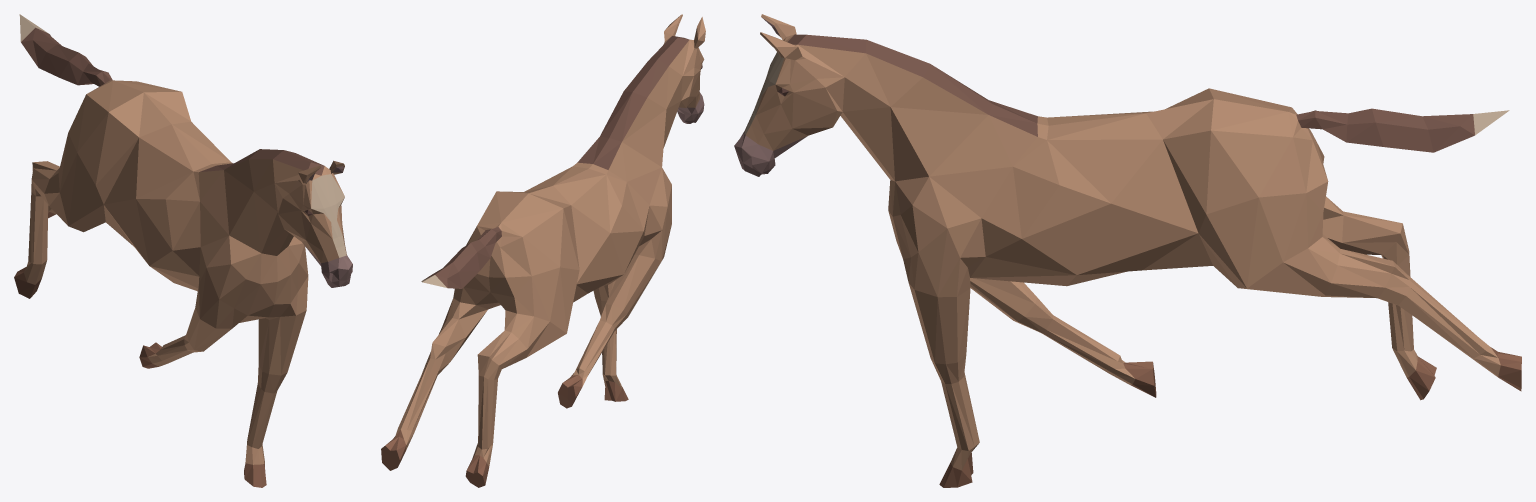
The picture shows the model from 3 angles, left to right: view 1: azimuth 30°, elevation 25°; view 2: azimuth 150°, elevation 25°; view 3: azimuth 270°, elevation 25°; orthographic projection. The views are drawn at different scales.
Parts seen in each view (by area): view 1: mesh_0; view 2: mesh_0; view 3: mesh_0.
Boxes of the visible parts, x1=… form: mesh_0: x1=14, y1=14, x2=352, y2=487; mesh_0: x1=381, y1=14, x2=705, y2=487; mesh_0: x1=734, y1=14, x2=1521, y2=487.
Bounding box in the file's own units: 63.75 × 195 × 301.
